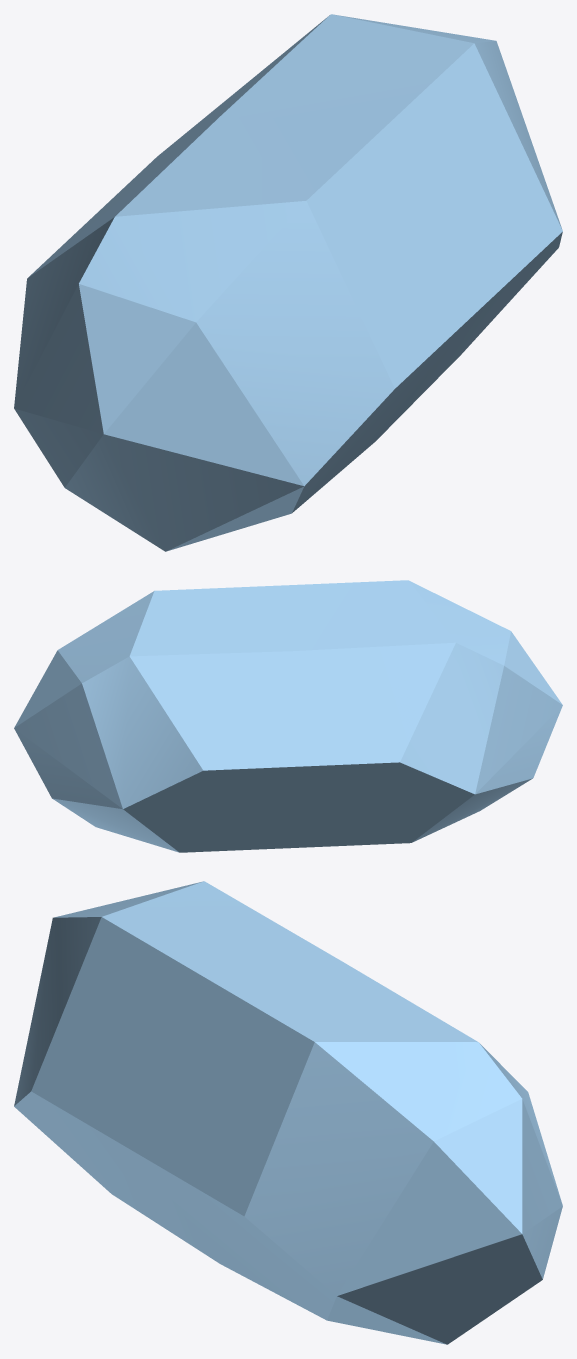
The model's file is crystal.fbx.
3 views of the same model, one above another, from view 1: azimuth 30°, elevation 25°; view 2: azimuth 150°, elevation 25°; view 3: azimuth 270°, elevation 25° (orthographic). The views are drawn at different scales.
Parts seen in each view (by area): view 1: crystal; view 2: crystal; view 3: crystal.
Part boxes in pixels (box(x1,y1,x2,y2)): crystal: box(14, 14, 562, 551); crystal: box(14, 580, 562, 852); crystal: box(14, 881, 562, 1344).
Size of the model in its own units: 81.34 by 41.19 by 69.64.
